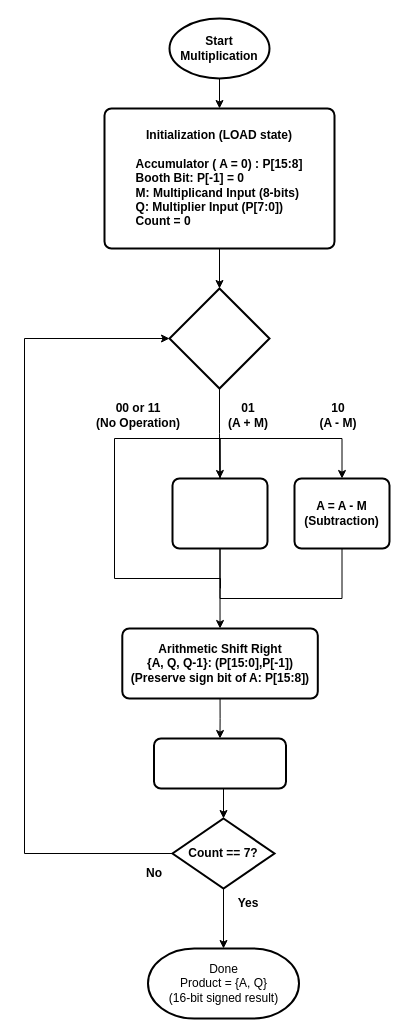
Image size: 408x1036. Some labels were removed from this diagram. The centre of each missing label's shape, as x and y in pixels:
"A = A + M (Addition)" goes at (x=219, y=513).
"Check P[0] & P[-1]" goes at (x=219, y=338).
"Count = Count + 1" goes at (x=219, y=763).
